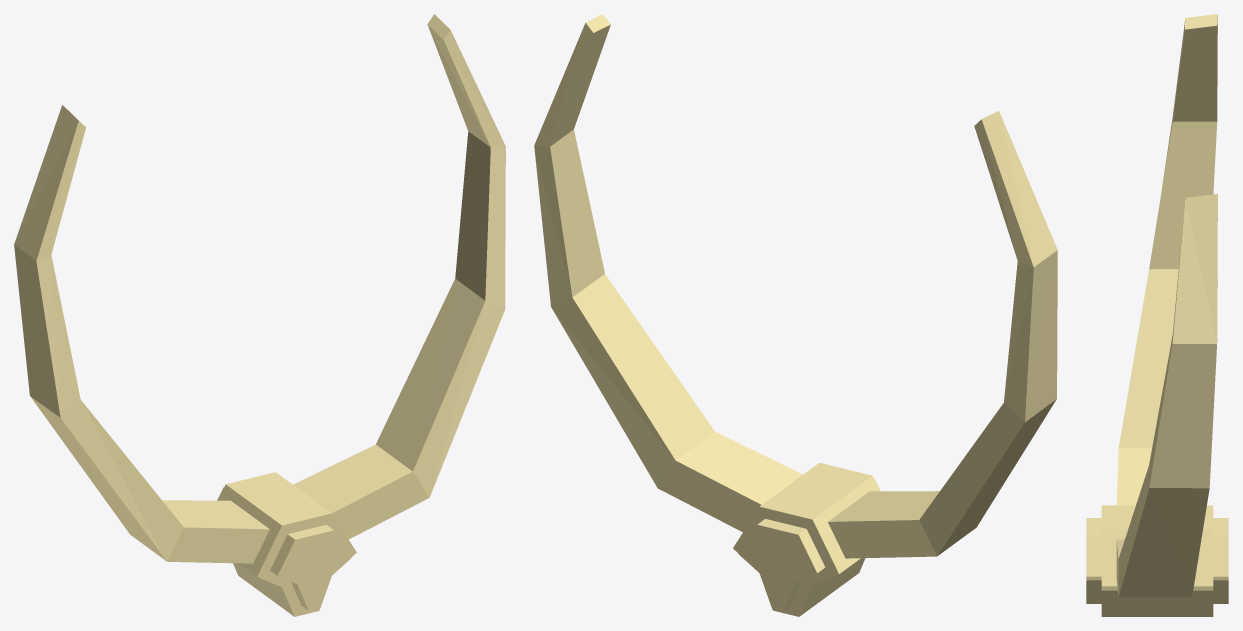
Rendered from Ribcage01.FBX.
3 renders of one model, left to right at view 1: azimuth 30°, elevation 25°; view 2: azimuth 150°, elevation 25°; view 3: azimuth 270°, elevation 25°, orthographic. The views are drawn at different scales.
Parts seen in each view (by area): view 1: Ribcage01; view 2: Ribcage01; view 3: Ribcage01.
Part boxes in pixels (x1=…): Ribcage01: x1=14, y1=14, x2=505, y2=616; Ribcage01: x1=534, y1=14, x2=1057, y2=616; Ribcage01: x1=1086, y1=14, x2=1228, y2=616.
Size of the model in its own units: 1.22 by 1.28 by 0.3238.
1 material, 1 textured.
